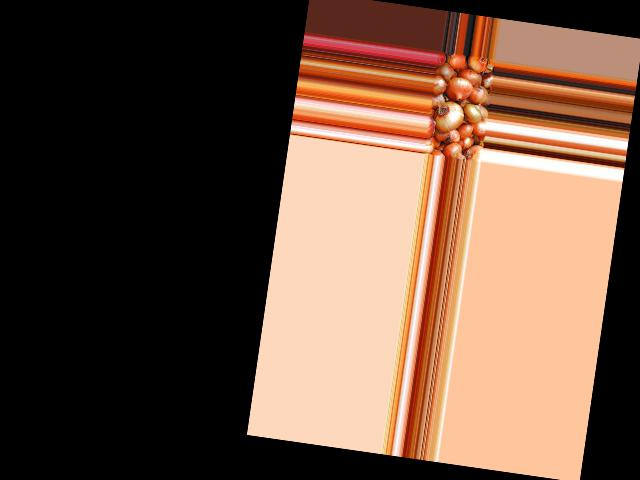onion: (467, 82, 488, 104)
